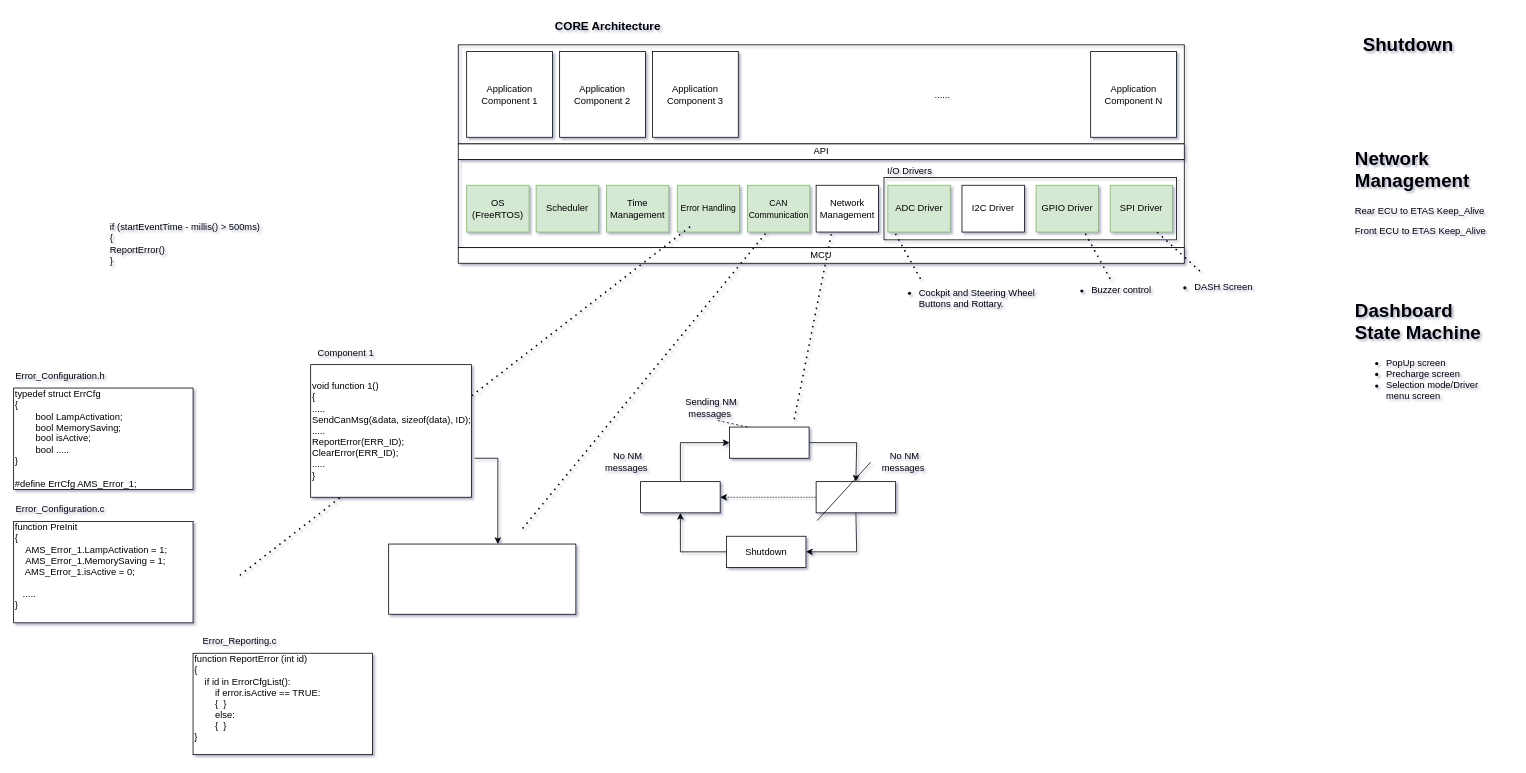
Some shapes in this 1526 by 773 pixel diagram are drawn without their labels. The shapes that lost their labels are listed below. From the top down, each one's centre as x and y in pixels, then its label:
At point 769,442: "Normal Operation".
At point 680,497: "Startup".
At point 855,497: "Prepare To Sleep".
At point 482,578: "void SendCanMsg(&data, sizeof(data), ID) { ..... }".
